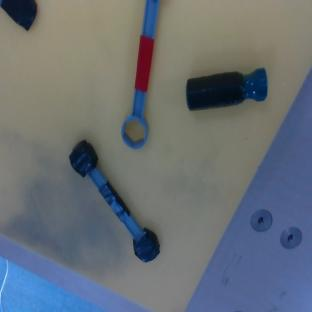part_2_bad: (183, 66, 270, 113)
part_3_bad: (63, 137, 166, 266)
